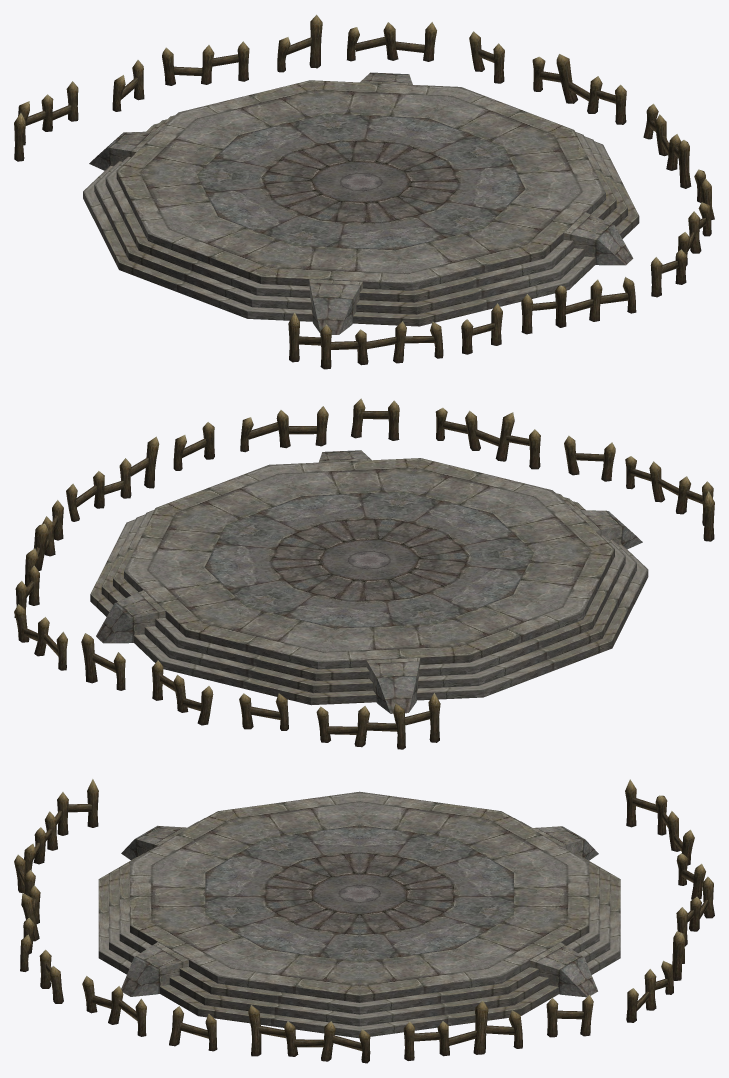
Rendered from headquarters_00.glb.
The picture shows the model from 3 angles, top to bottom: view 1: azimuth 30°, elevation 25°; view 2: azimuth 150°, elevation 25°; view 3: azimuth 270°, elevation 25°; orthographic projection. The views are drawn at different scales.
Parts seen in each view (by area): view 1: res\artifact\guild\headq\headquarters_00.bsr; view 2: res\artifact\guild\headq\headquarters_00.bsr; view 3: res\artifact\guild\headq\headquarters_00.bsr.
Part boxes in pixels (x1,y1,x2,y2): res\artifact\guild\headq\headquarters_00.bsr: (14,14,714,369); res\artifact\guild\headq\headquarters_00.bsr: (14,398,714,749); res\artifact\guild\headq\headquarters_00.bsr: (14,779,714,1063).
Size of the model in its own units: 230 by 20.76 by 263.
Materials: 2 (2 with a texture image).
